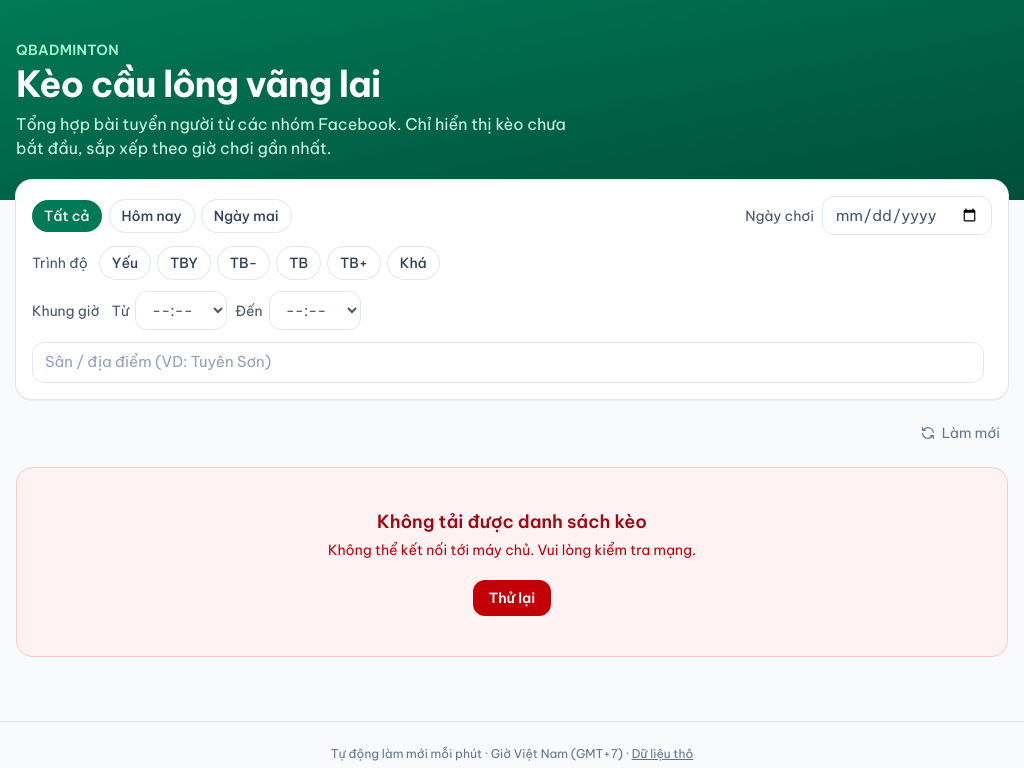
Scenario: HomePage › shows the error state and retries on demand
Expected: the message shows "Không tải được danh sách kèo", x1=377 y1=510 x2=647 y2=533
Click the button "Thử lại": (512,598) x1=473 y1=580 x2=551 y2=616
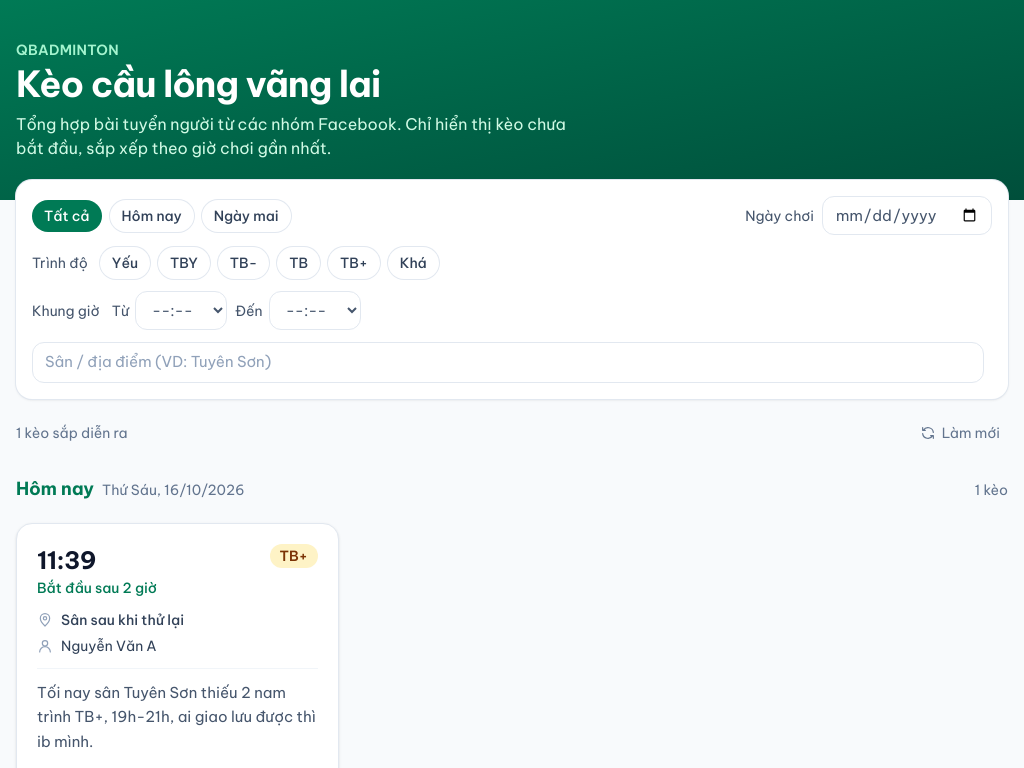
Expected: the text "Sân sau khi thử lại" is shown, x1=61 y1=610 x2=184 y2=630
